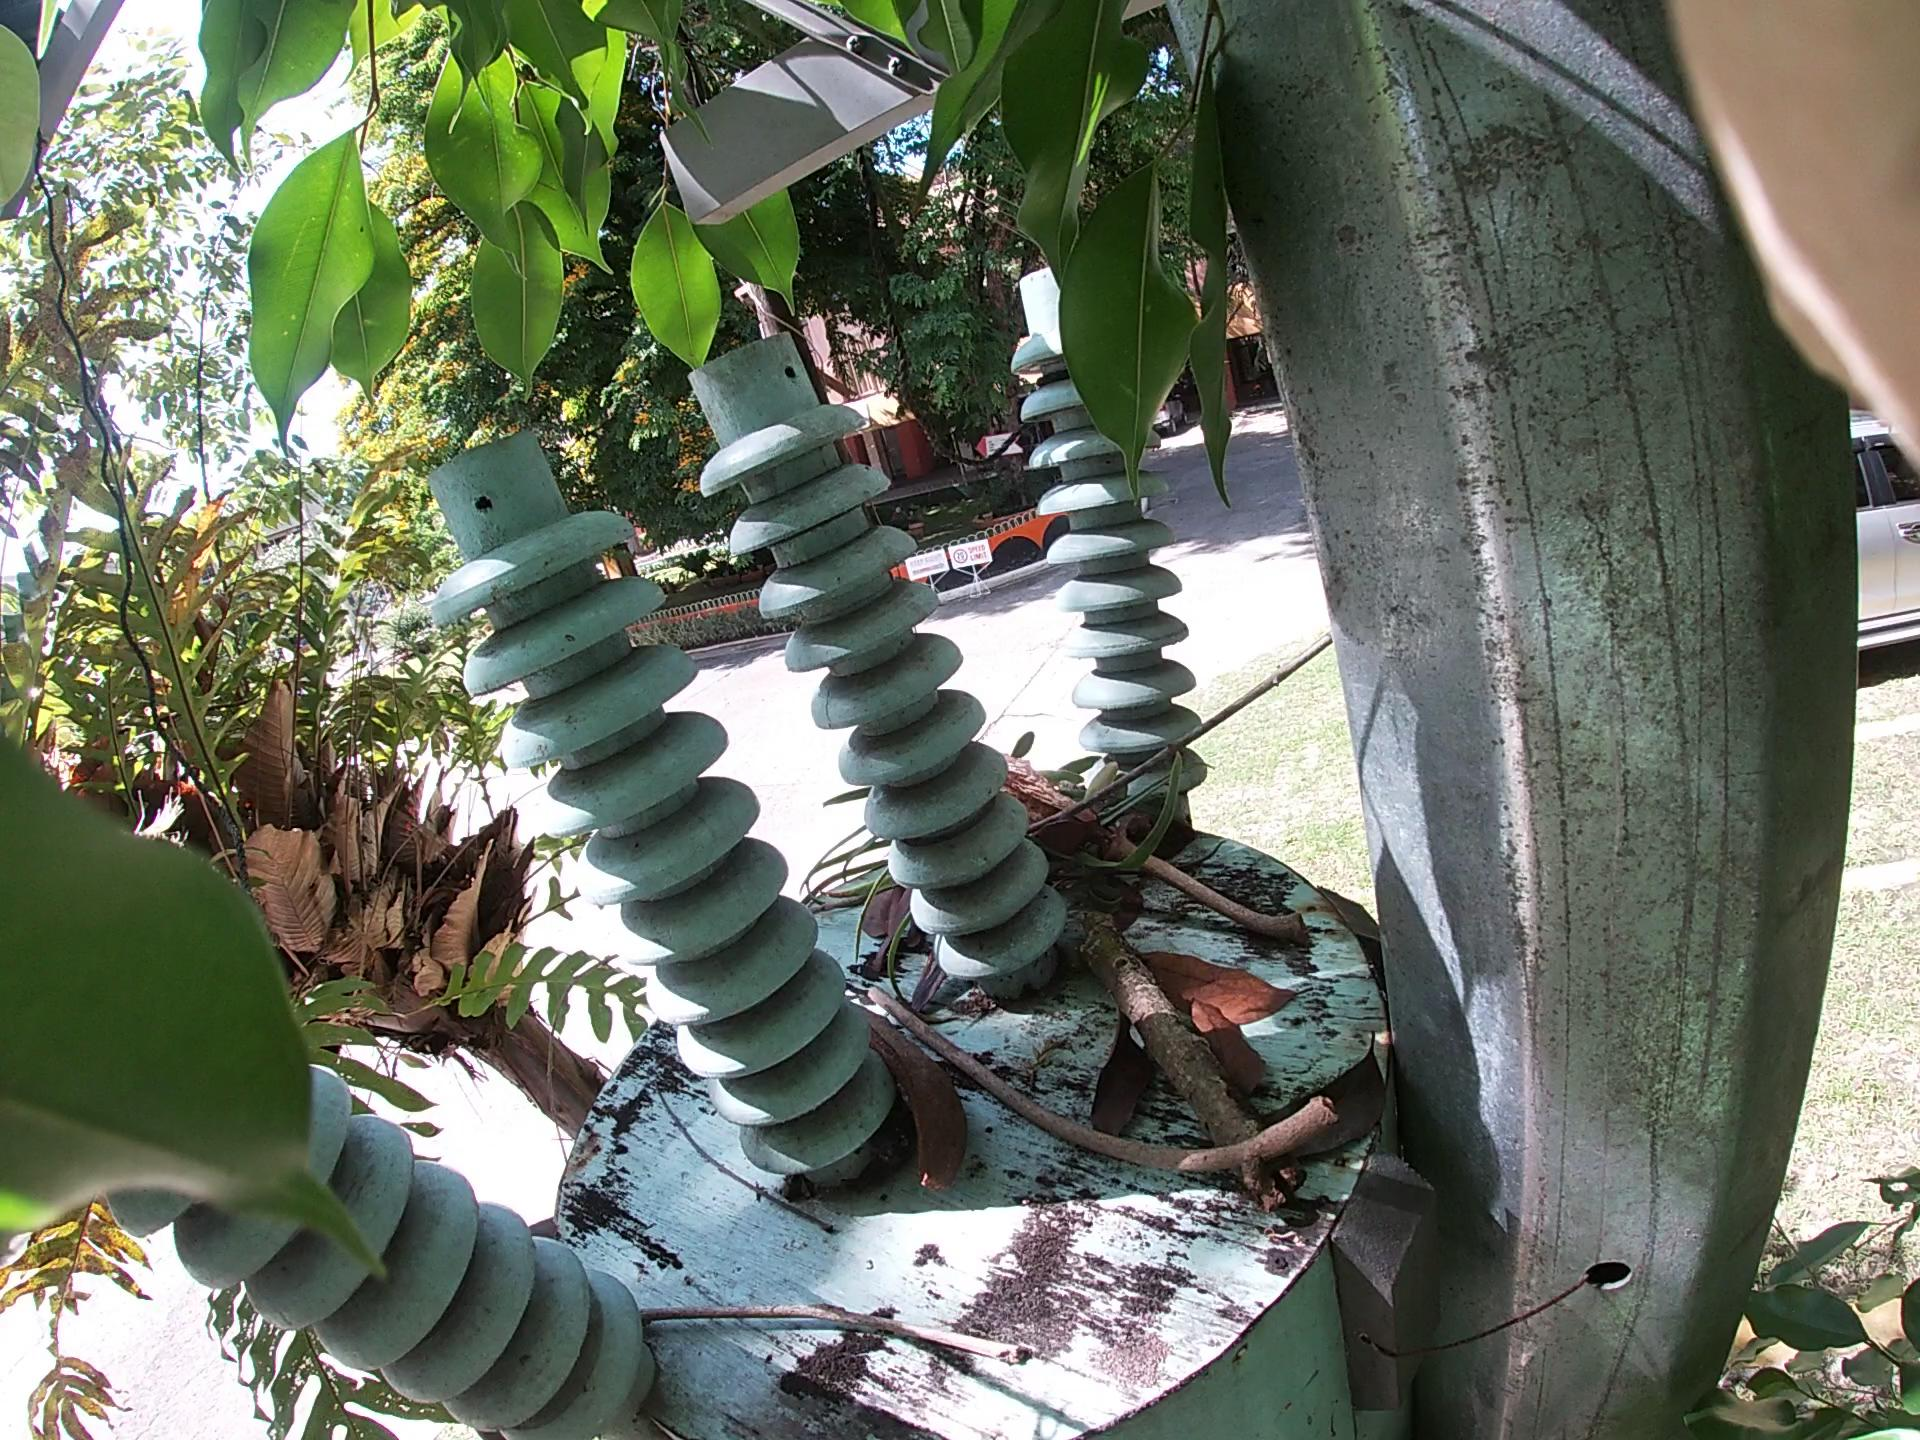branch with leaves: (965, 693, 1308, 1257)
leaf: (1104, 930, 1349, 1177)
tree branch: (934, 535, 1683, 905), (945, 717, 1241, 936), (581, 1293, 1150, 1370)
